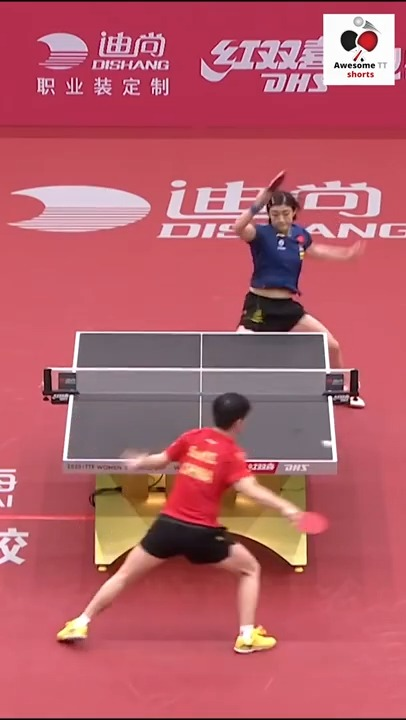Ball: (322, 438, 336, 451)
